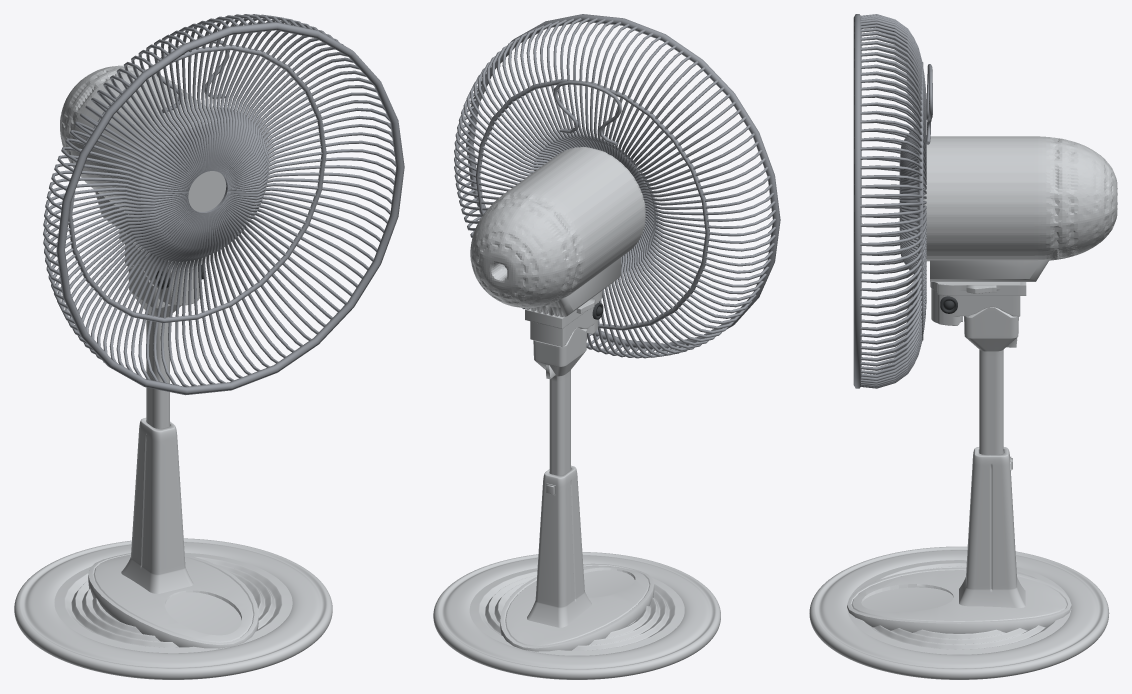
File: Ventilador_cuerpo.obj
3 views of the same model, side by side, from view 1: azimuth 30°, elevation 25°; view 2: azimuth 150°, elevation 25°; view 3: azimuth 270°, elevation 25° (orthographic). The views are drawn at different scales.
Parts seen in each view (by area): view 1: Ventilador_cuerpo; view 2: Ventilador_cuerpo; view 3: Ventilador_cuerpo.
Part boxes in pixels (x1,y1,x2,y2): Ventilador_cuerpo: (14,14,404,679); Ventilador_cuerpo: (433,14,780,679); Ventilador_cuerpo: (809,14,1117,679).
Bounding box in the file's own units: 0.6574 × 1.14 × 0.5385.
3 materials, 3 textured.
